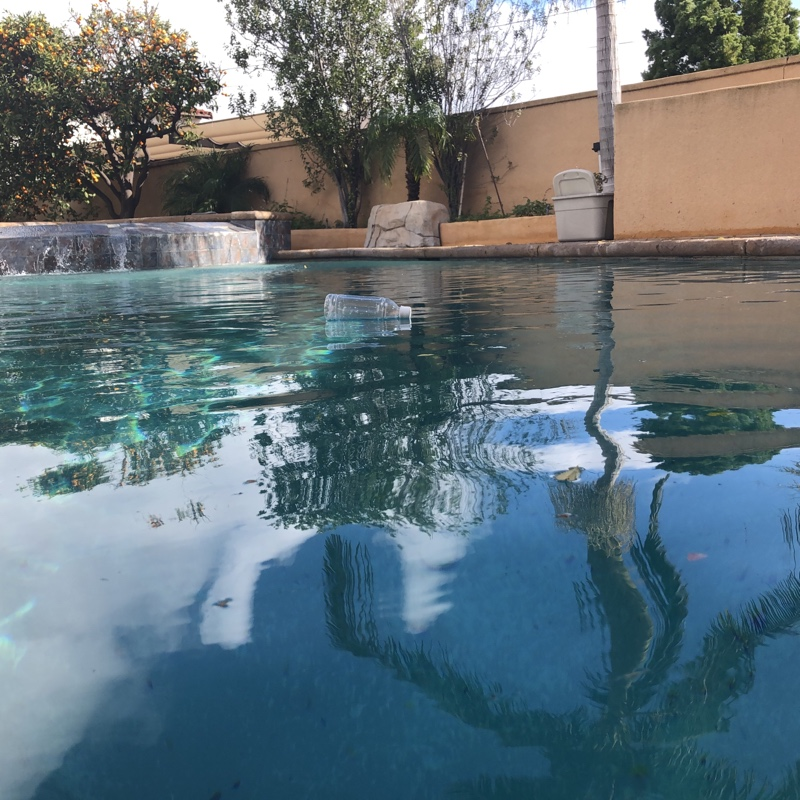Plastic Bottle: (322, 290, 415, 327)
